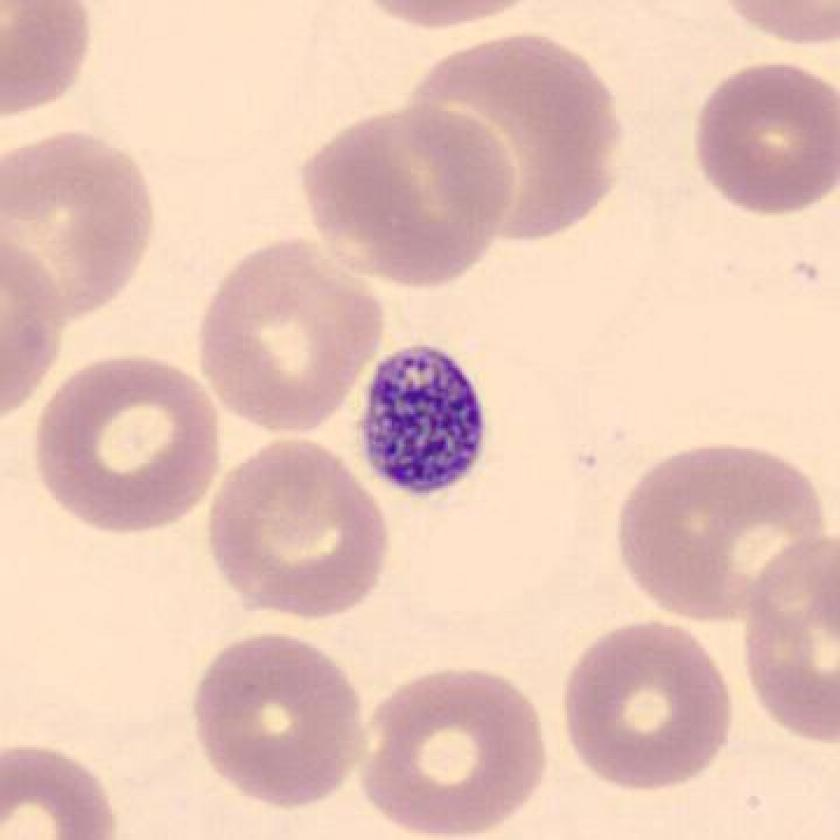platelets: (358, 335, 489, 513)
